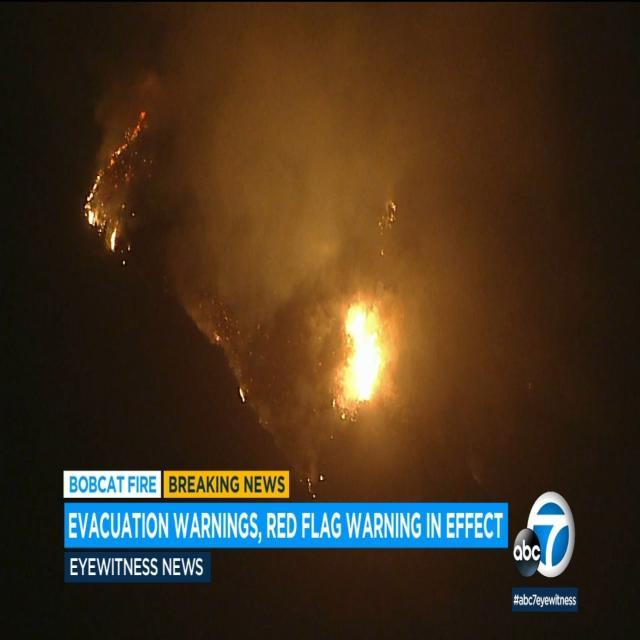Fire: (339, 302, 384, 404), (82, 199, 94, 225), (110, 226, 120, 256)
Smoke: (98, 9, 580, 476)
